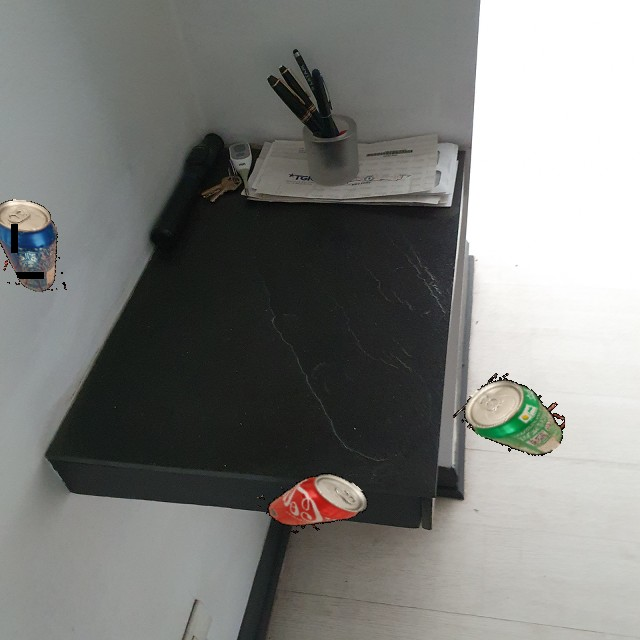coca cola: (251, 442, 380, 564)
pepsi: (0, 199, 68, 292)
sprite: (453, 354, 565, 484)
